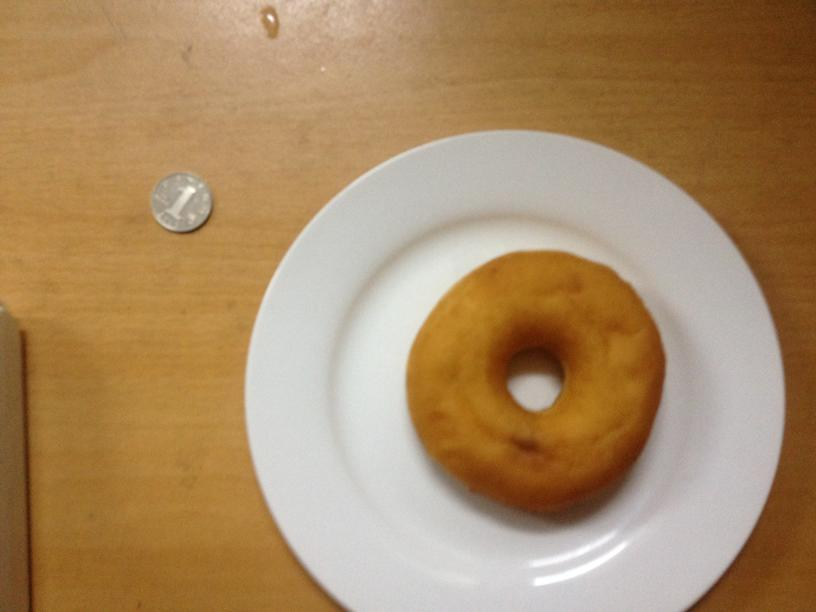coin: (147, 169, 212, 233)
doughnut: (404, 250, 666, 512)
